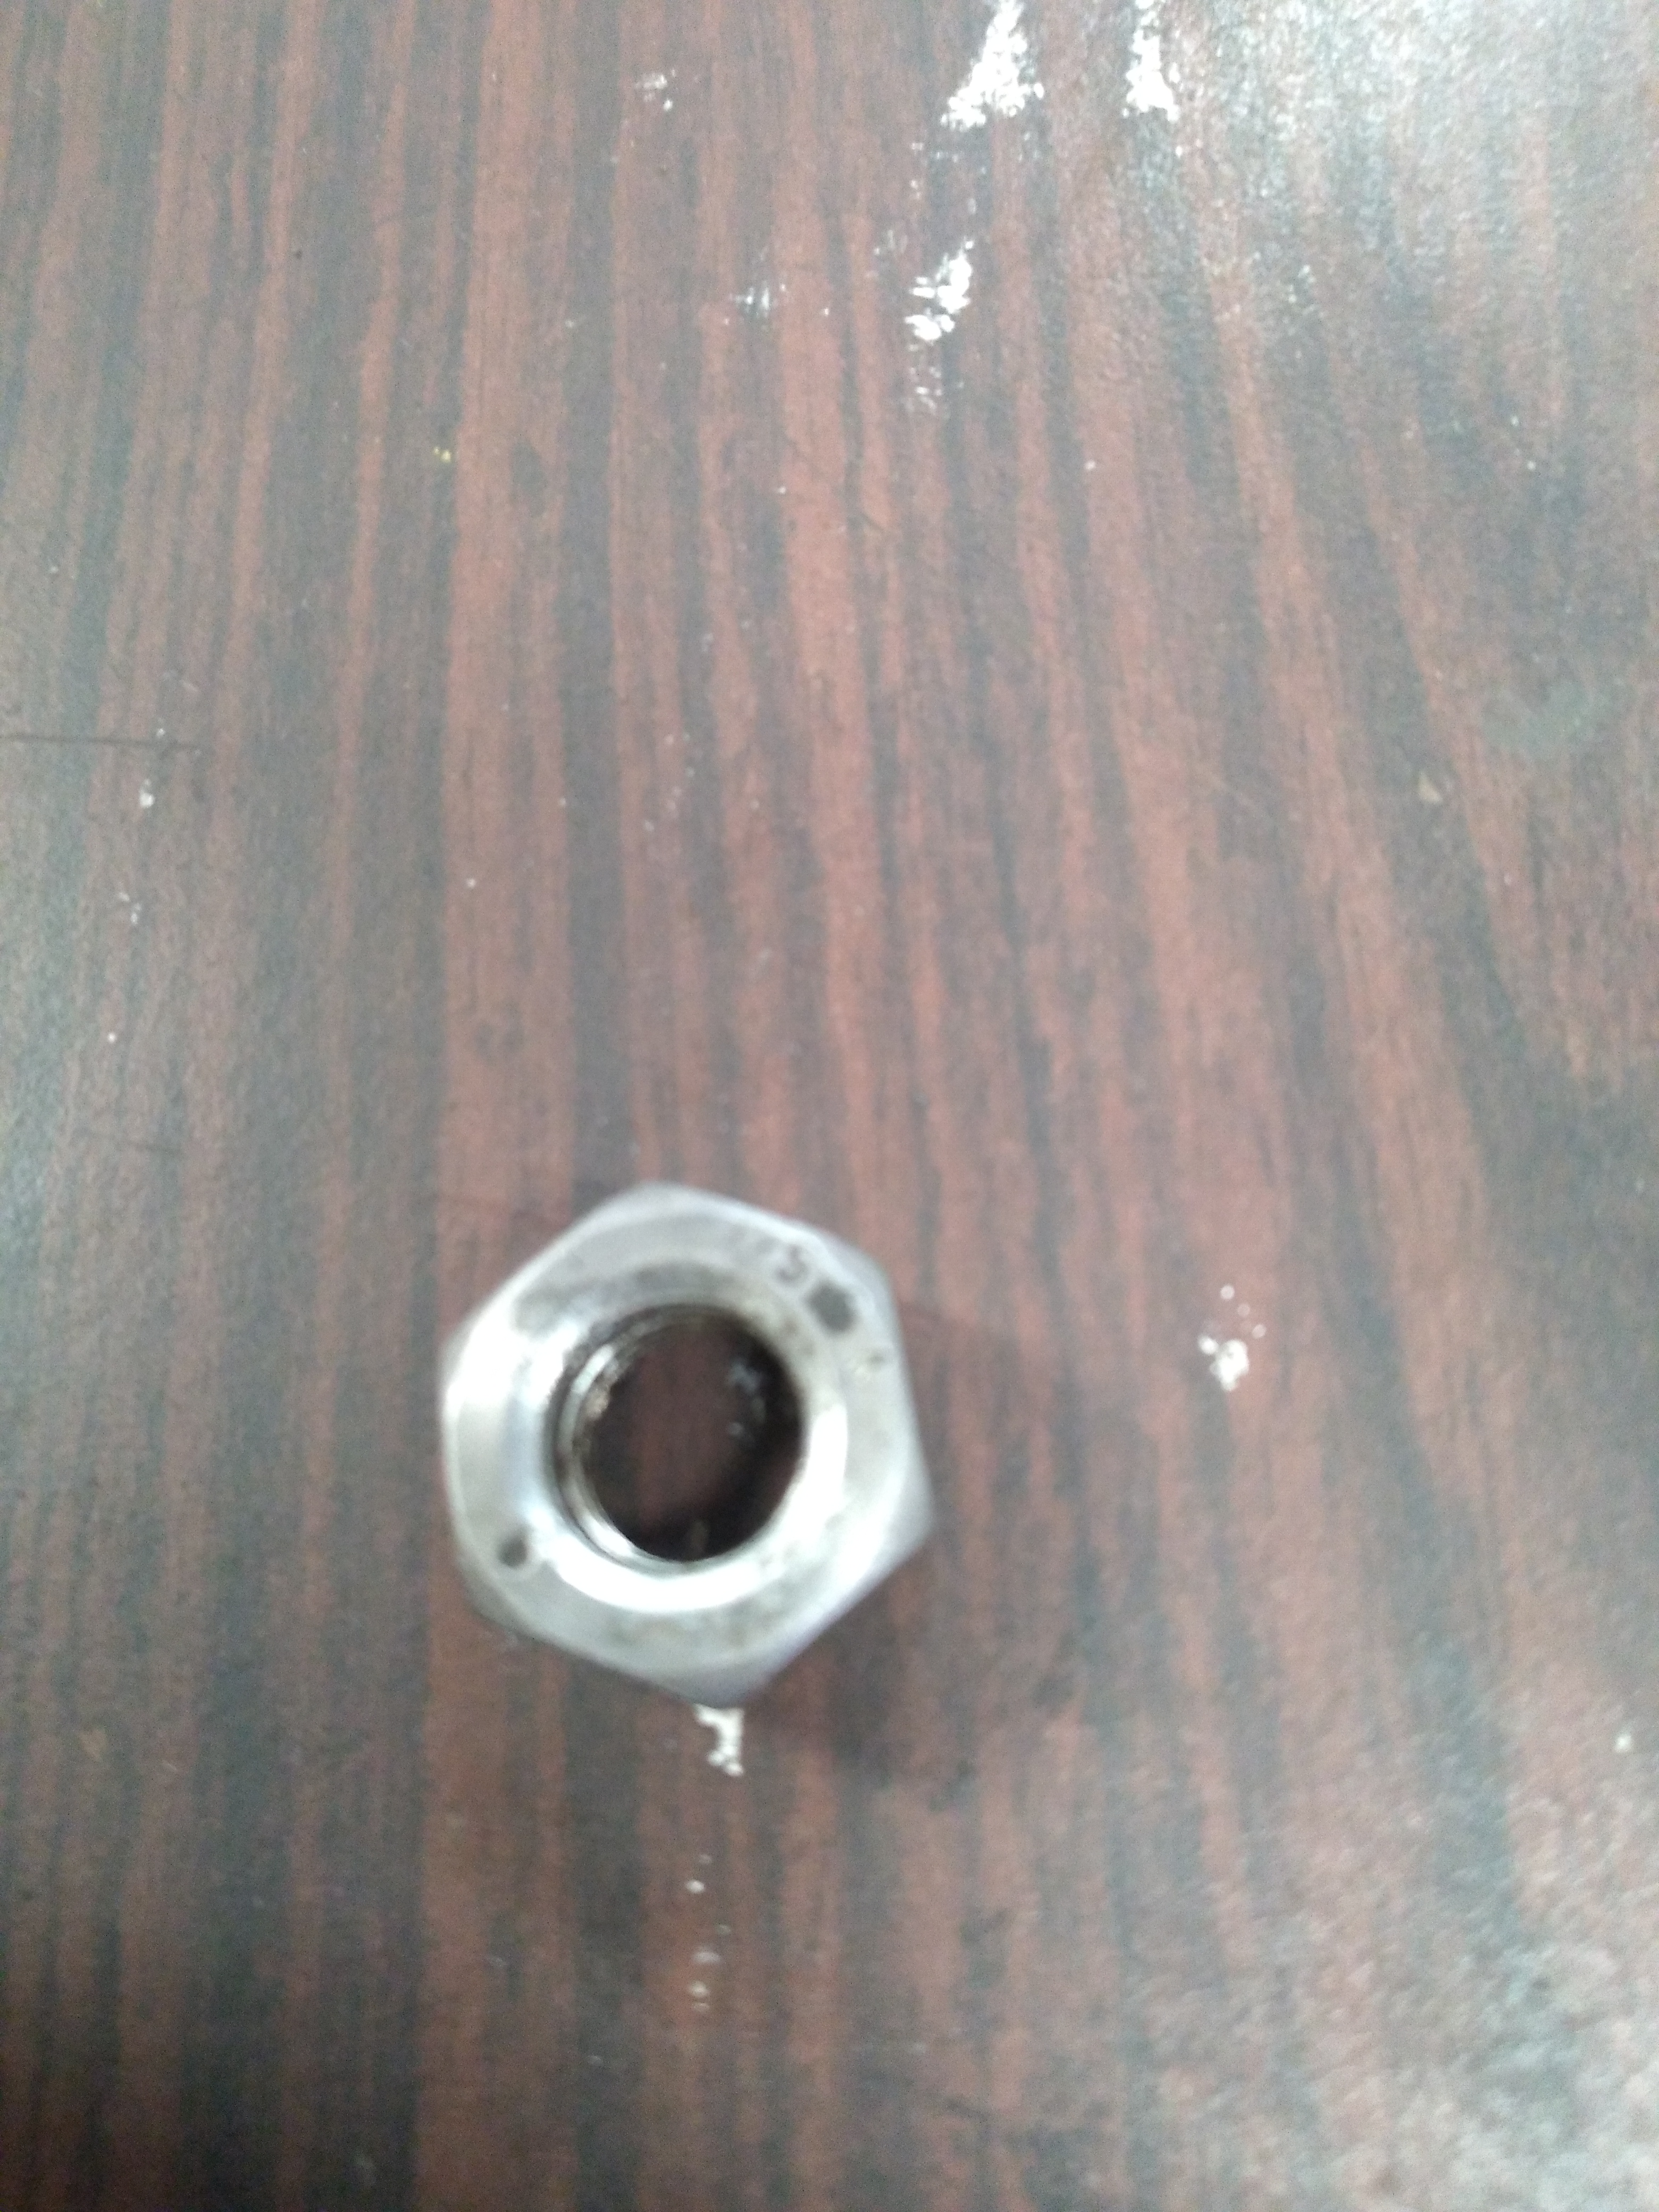Thread: (516, 1275, 838, 1592)
